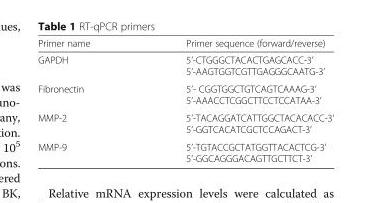table: (37, 37, 333, 163)
table column: (137, 37, 333, 163), (37, 37, 137, 163)
table column header: (37, 37, 333, 51)
table row: (37, 79, 333, 108), (37, 108, 333, 137), (37, 51, 333, 79), (37, 137, 333, 163), (37, 37, 333, 51)
